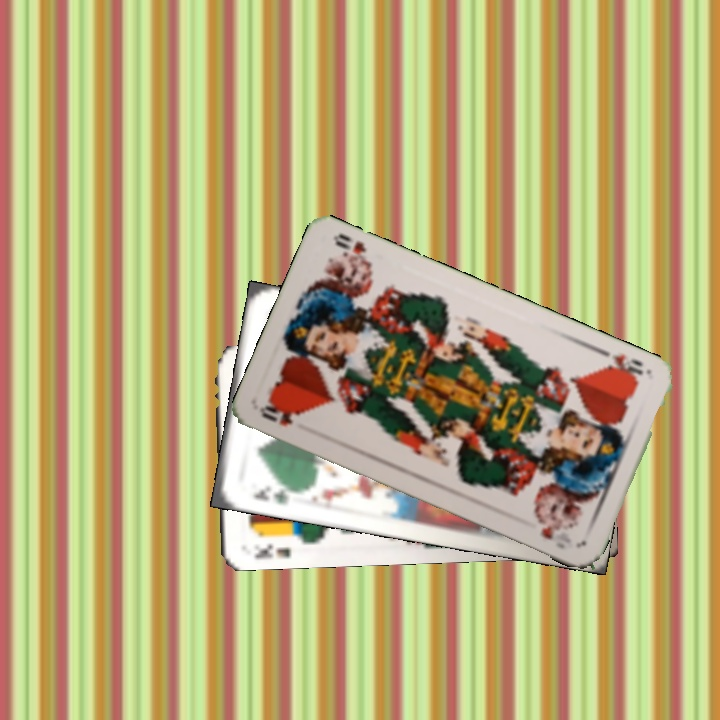EK: (250, 539, 294, 561)
GK: (249, 481, 298, 507)
HO: (599, 349, 647, 384), (256, 398, 302, 429)
